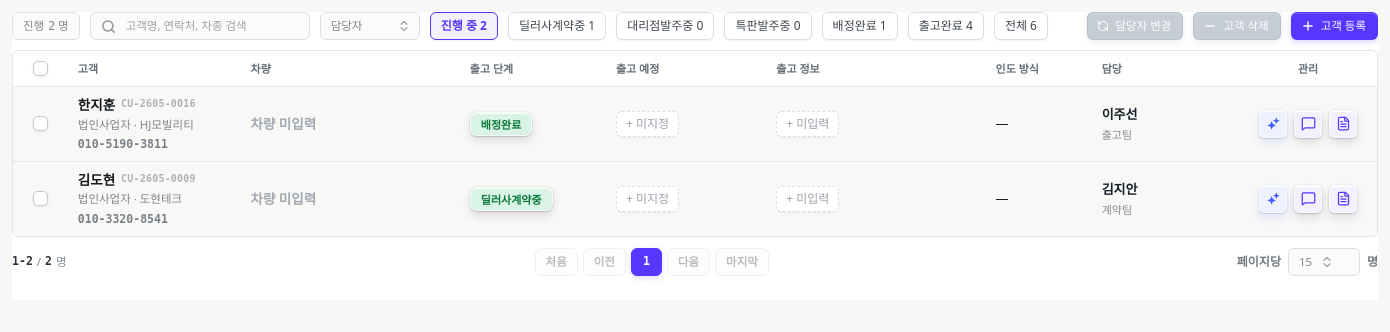
Test: 출고 관리(delivery) 콘솔 › 출고 단계 셀 = 2차 상태 버튼(1차 버튼 없음), 팝오버 옵션 = 계약완료 2차 5종
Click the button with aria-label "진행 2단계 변경: 배정완료": (501, 124) [470, 112, 532, 136]
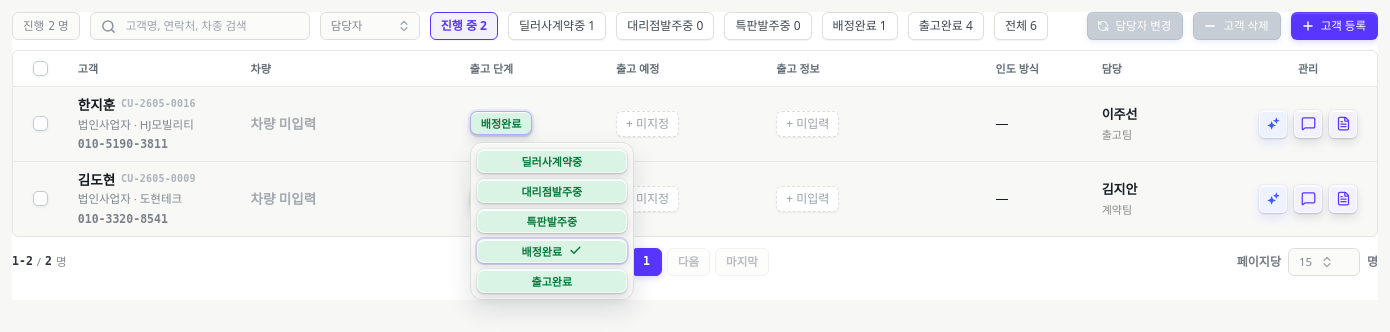
Expected: the options read "딜러사계약중", "대리점발주중", "특판발주중", "배정완료", "출고완료", in this order, [477, 149, 627, 173]; [477, 179, 627, 203]; [477, 209, 627, 233]; [477, 239, 627, 263]; [477, 269, 627, 293]
